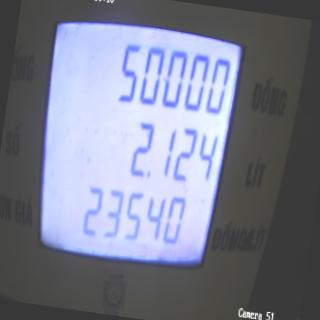screen: (14, 0, 253, 303)
